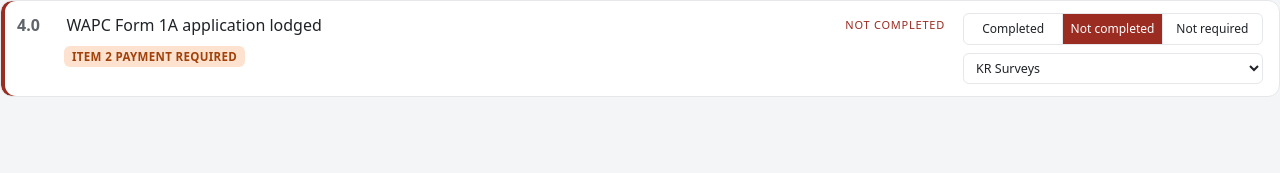
Test: useUpdateCheckpoint (through the card controls) › rolls back and shows the save-failed banner with the request id on other failures
Click the button "Completed": {"x": 1014, "y": 29} [964, 14, 1063, 44]
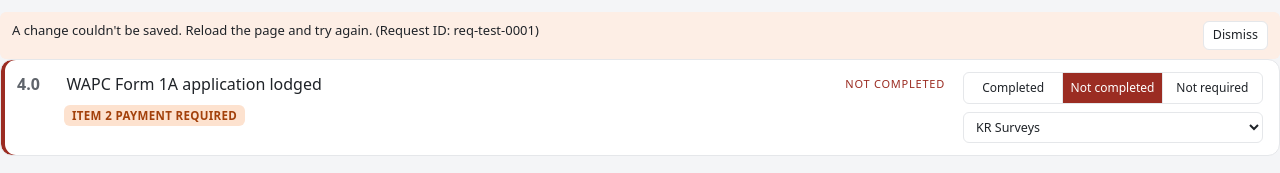
Check: the text "A change couldn't be saved" shows "Request ID: req-test-0001", box [12, 21, 539, 39]
